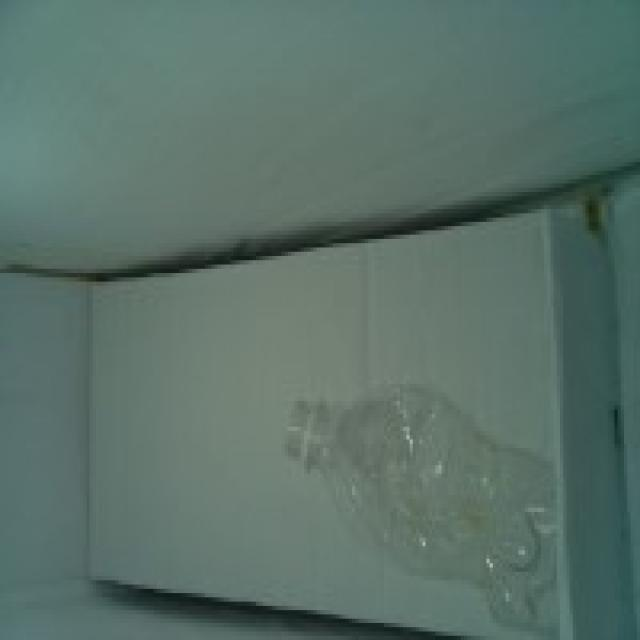Anorganik: (275, 350, 563, 640)
